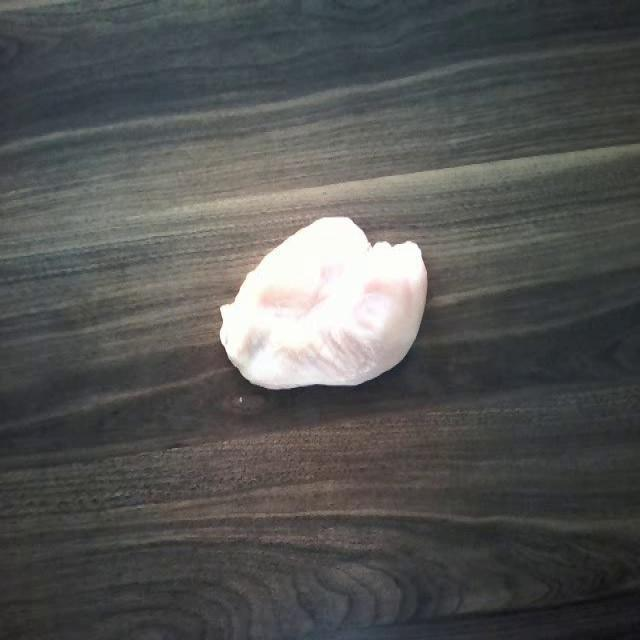breast: (218, 212, 432, 398)
